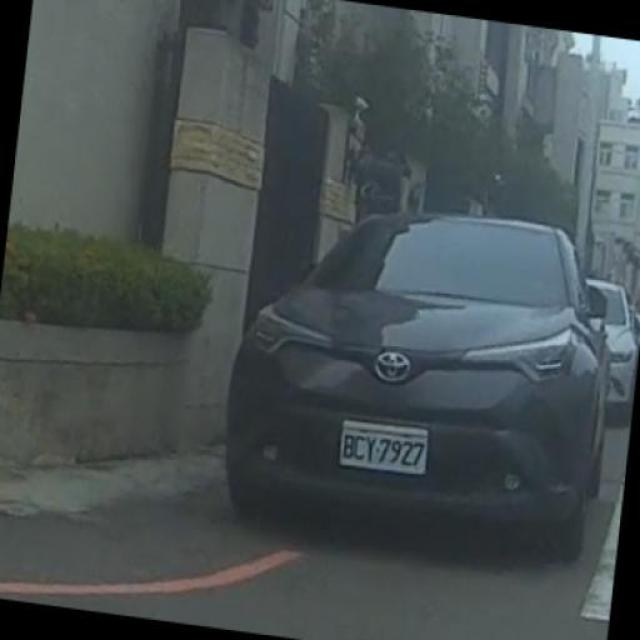illegalparking: (172, 158, 632, 581)
